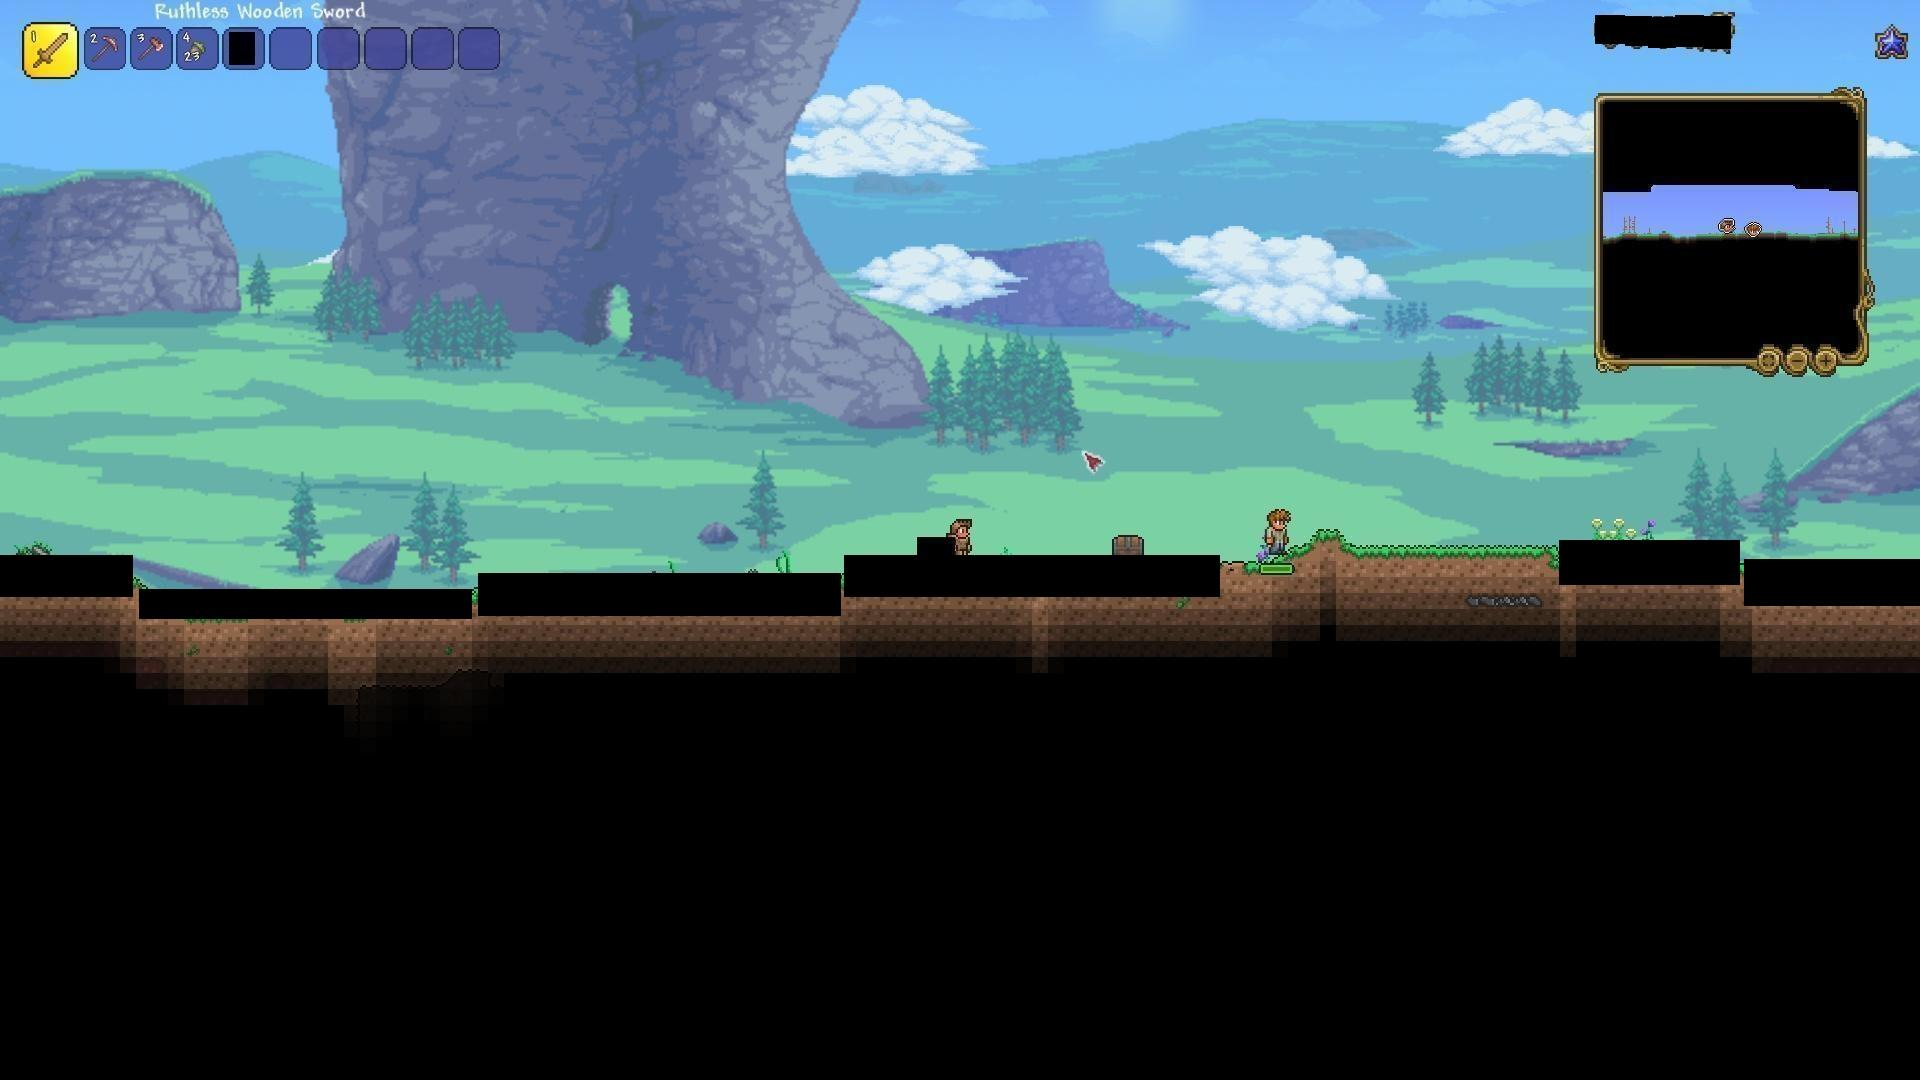dirt: (1295, 525, 1556, 564)
